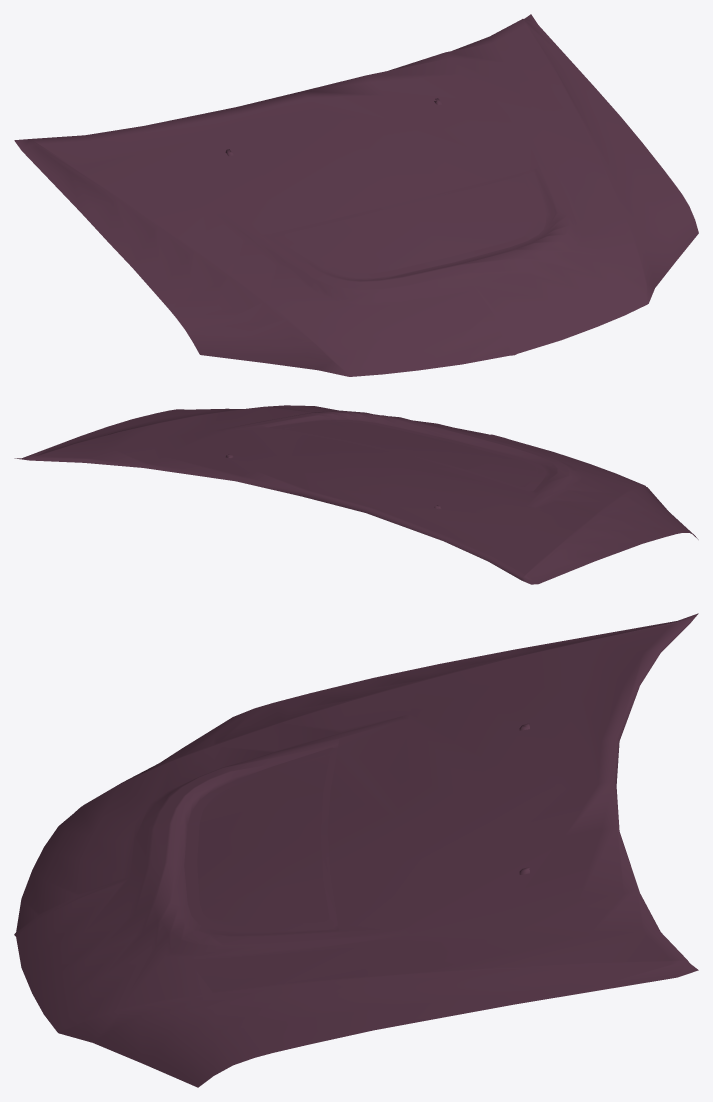
File: evo9_engine_top.FBX
The picture shows the model from 3 angles, top to bottom: view 1: azimuth 30°, elevation 25°; view 2: azimuth 150°, elevation 25°; view 3: azimuth 270°, elevation 25°; orthographic projection. The views are drawn at different scales.
Visible parts, largest first — view 1: Hood Carbon; view 2: Hood Carbon; view 3: Hood Carbon.
Part boxes in pixels (x1,y1,x2,y2): Hood Carbon: [14, 14, 698, 376]; Hood Carbon: [14, 405, 698, 584]; Hood Carbon: [14, 613, 698, 1087].
Bounding box in the file's own units: 3158 × 637 × 2560.
